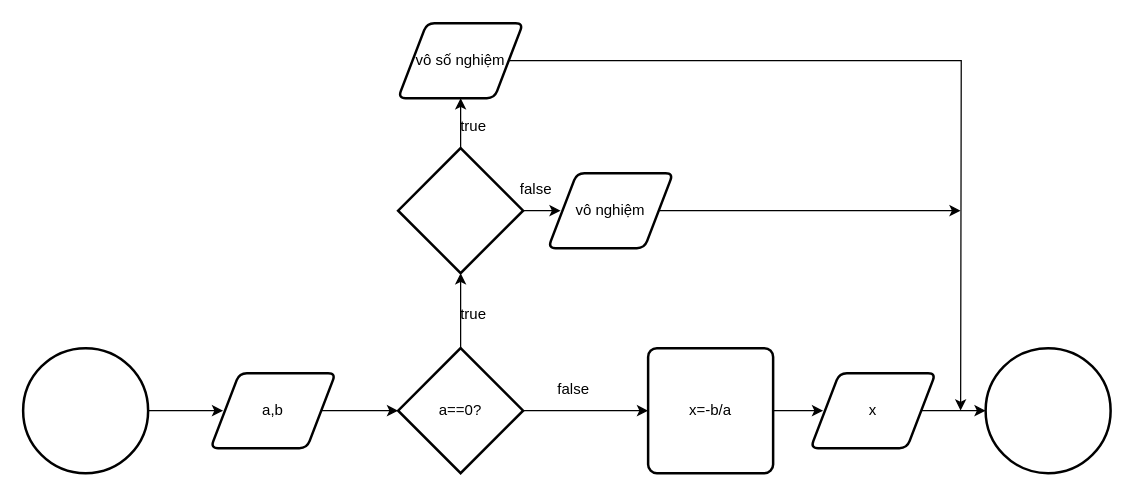
Image size: 1133x495. Some labels were removed from this diagram. Each missing label, with the centre of its shape:
"b==0?" belongs at point (460, 210).
"End" belongs at point (1047, 410).
"Start" belongs at point (85, 410).
